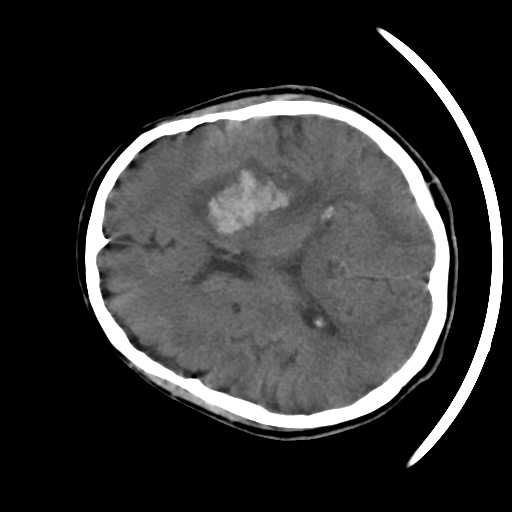a: (173, 146, 329, 255)
